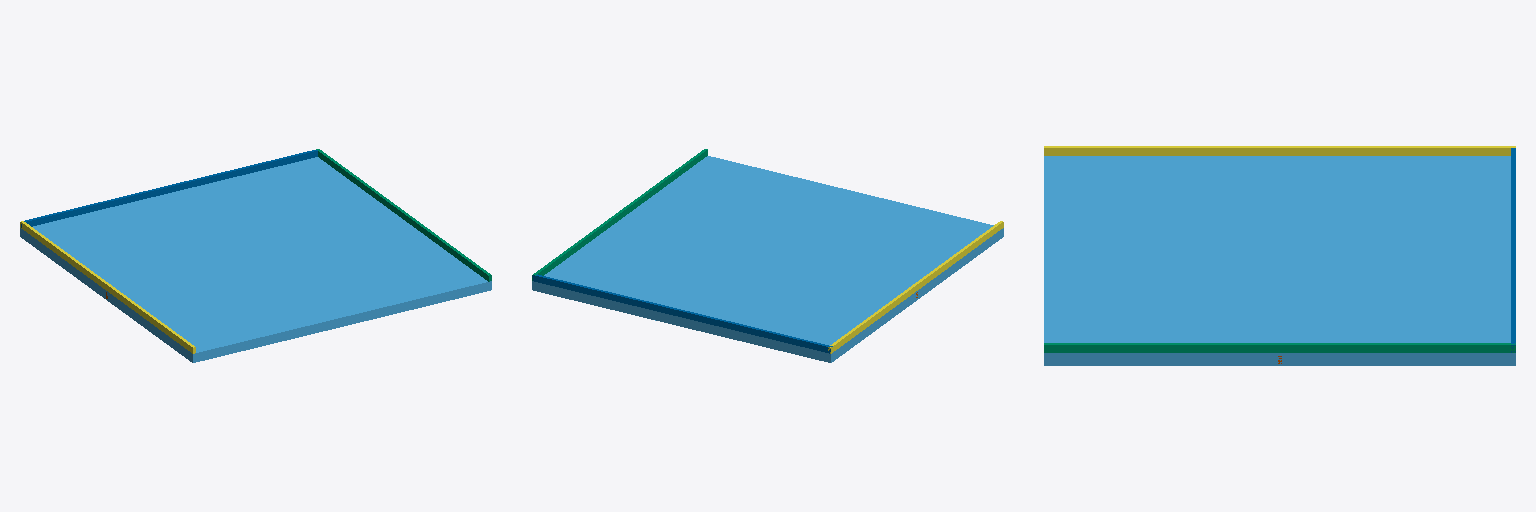
robot.urdf — bordered_plate_model:
<?xml version="1.0" ?>
<!-- =================================================================================== -->
<!-- |    This document was autogenerated by xacro from /home/gepetto/ros2_ws/install/agimus_demo_09_glue_spreading/share/agimus_demo_09_glue_spreading/urdf/plate.urdf.xacro | -->
<!-- |    EDITING THIS FILE BY HAND IS NOT RECOMMENDED                                 | -->
<!-- =================================================================================== -->
<robot name="bordered_plate_model">
  <!-- Épaisseur de la plaque -->
  <!-- Épaisseur des bordures -->
  <!-- Matériaux pour les couleurs -->
  <!-- Le maillon de base (la surface de la plaque) -->
  <link name="plate_base_link"/>
  <joint name="plate_origin_joint" type="fixed">
    <parent link="plate_base_link"/>
    <child link="plate_bottom_link"/>
    <origin rpy="0 0 0" xyz="0 0 0.015"/>
  </joint>
  <link name="plate_bottom_link">
    <visual>
      <geometry>
        <box size="1.0 1.0 0.03"/>
      </geometry>
      <material name="grey"/>
    </visual>
    <collision>
      <geometry>
        <box size="1.0 1.0 0.03"/>
      </geometry>
    </collision>
  </link>
  <!-- Instantiation des 4 bordures en appelant la macro single_border -->
  <link name="plate_border_front">
    <visual>
      <material name="dark_grey"/>
      <geometry>
        <box size="0.01 1.0 0.02"/>
      </geometry>
    </visual>
    <collision>
      <geometry>
        <box size="0.01 1.0 0.02"/>
      </geometry>
    </collision>
  </link>
  <joint name="plate_border_front_joint" type="fixed">
    <parent link="plate_bottom_link"/>
    <child link="plate_border_front"/>
    <origin rpy="0 0 0" xyz="0.495 0 0.025"/>
  </joint>
  <link name="plate_border_back">
    <visual>
      <material name="dark_grey"/>
      <geometry>
        <box size="0.01 1.0 0.02"/>
      </geometry>
    </visual>
    <collision>
      <geometry>
        <box size="0.01 1.0 0.02"/>
      </geometry>
    </collision>
  </link>
  <joint name="plate_border_back_joint" type="fixed">
    <parent link="plate_bottom_link"/>
    <child link="plate_border_back"/>
    <origin rpy="0 0 0" xyz="-0.495 0 0.025"/>
  </joint>
  <link name="plate_border_left">
    <visual>
      <material name="dark_grey"/>
      <geometry>
        <box size="1.0 0.01 0.02"/>
      </geometry>
    </visual>
    <collision>
      <geometry>
        <box size="1.0 0.01 0.02"/>
      </geometry>
    </collision>
  </link>
  <joint name="plate_border_left_joint" type="fixed">
    <parent link="plate_bottom_link"/>
    <child link="plate_border_left"/>
    <origin rpy="0 0 0" xyz="0 0.495 0.025"/>
  </joint>
  <link name="plate_border_right">
    <visual>
      <material name="dark_grey"/>
      <geometry>
        <box size="1.0 0.01 0.02"/>
      </geometry>
    </visual>
    <collision>
      <geometry>
        <box size="1.0 0.01 0.02"/>
      </geometry>
    </collision>
  </link>
  <joint name="plate_border_right_joint" type="fixed">
    <parent link="plate_bottom_link"/>
    <child link="plate_border_right"/>
    <origin rpy="0 0 0" xyz="0 0 0"/>
  </joint>
</robot>

--- Facts derived from the render (not from the file) ---
Views: 3 orthographic renders of the robot side by side, from view 1: azimuth 30°, elevation 25°; view 2: azimuth 150°, elevation 25°; view 3: azimuth 270°, elevation 25°.
Model bordered_plate_model with 6 links and 5 joints (5 fixed), rooted at plate_base_link, posed every joint at zero.
Visible links, largest first — view 1: plate_bottom_link, plate_border_left, plate_border_back, plate_border_front; view 2: plate_bottom_link, plate_border_left, plate_border_back, plate_border_front; view 3: plate_bottom_link, plate_border_front, plate_border_back, plate_border_left.
Boxes of the visible links, bbox=[...] form: plate_bottom_link: bbox=[20, 157, 491, 362]; plate_border_left: bbox=[21, 150, 317, 227]; plate_border_back: bbox=[20, 221, 195, 353]; plate_border_front: bbox=[316, 149, 491, 281]; plate_bottom_link: bbox=[532, 156, 1003, 362]; plate_border_left: bbox=[532, 274, 832, 353]; plate_border_back: bbox=[828, 221, 1003, 353]; plate_border_front: bbox=[532, 149, 707, 280]; plate_bottom_link: bbox=[1044, 156, 1515, 365]; plate_border_front: bbox=[1044, 343, 1515, 352]; plate_border_back: bbox=[1044, 146, 1515, 155]; plate_border_left: bbox=[1511, 148, 1515, 352].
Bounding box of the posed robot: 1 × 1 × 0.05 m (x, y, z).
Geometry: primitives only (box / cylinder / sphere), no mesh files.
